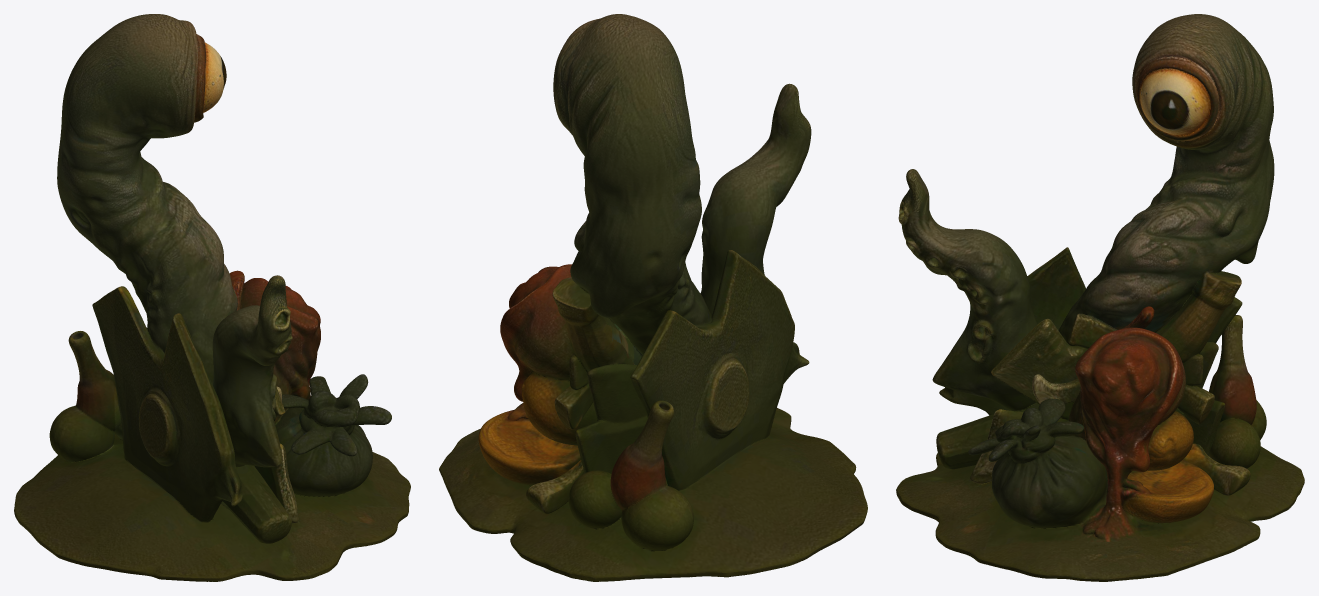
File: Trasher2.glb
The picture shows the model from 3 angles, left to right: view 1: azimuth 30°, elevation 25°; view 2: azimuth 150°, elevation 25°; view 3: azimuth 270°, elevation 25°; orthographic projection. The views are drawn at different scales.
Parts seen in each view (by area): view 1: tripo_node_8e02ad75-90f3-4cec-974f-51df151ea575; view 2: tripo_node_8e02ad75-90f3-4cec-974f-51df151ea575; view 3: tripo_node_8e02ad75-90f3-4cec-974f-51df151ea575.
Boxes of the visible parts, <box> form: tripo_node_8e02ad75-90f3-4cec-974f-51df151ea575: <box>14,14,410,581</box>; tripo_node_8e02ad75-90f3-4cec-974f-51df151ea575: <box>439,14,867,581</box>; tripo_node_8e02ad75-90f3-4cec-974f-51df151ea575: <box>896,14,1304,581</box>.
Size of the model in its own units: 0.7932 by 1 by 0.7902.
Materials: 1 (1 with a texture image).
